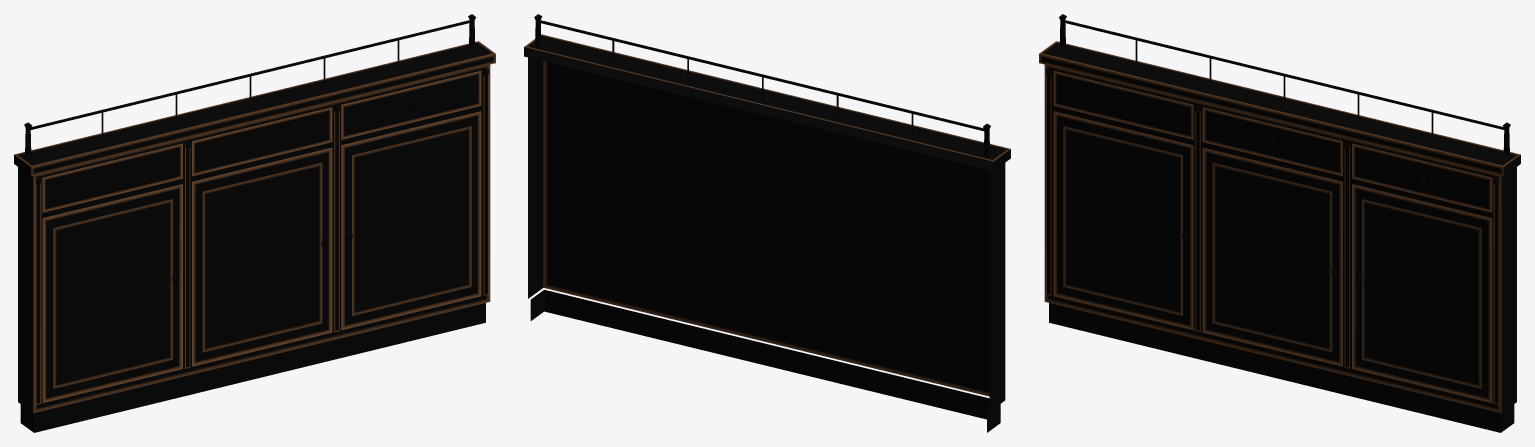
Rendered from sideboard_180.glb.
3 views of the same model, side by side, from view 1: azimuth 30°, elevation 25°; view 2: azimuth 150°, elevation 25°; view 3: azimuth 330°, elevation 25° (orthographic).
Visible parts, largest first — view 1: teak, frame, top, dark, brass; view 2: frame, top, dark, brass; view 3: teak, frame, top, dark, brass.
Boxes of the visible parts, x1=… form: teak: x1=35, y1=69, x2=488, y2=404; frame: x1=18, y1=64, x2=490, y2=413; top: x1=14, y1=41, x2=495, y2=176; dark: x1=20, y1=303, x2=485, y2=432; brass: x1=24, y1=14, x2=475, y2=281; frame: x1=528, y1=57, x2=1005, y2=411; top: x1=524, y1=34, x2=1010, y2=170; dark: x1=530, y1=289, x2=1000, y2=432; brass: x1=534, y1=14, x2=990, y2=157; teak: x1=1046, y1=69, x2=1499, y2=404; frame: x1=1044, y1=64, x2=1516, y2=413; top: x1=1039, y1=41, x2=1520, y2=176; dark: x1=1049, y1=303, x2=1514, y2=432; brass: x1=1059, y1=14, x2=1510, y2=281.
Size of the model in its own units: 1.8 by 1.12 by 0.115.
